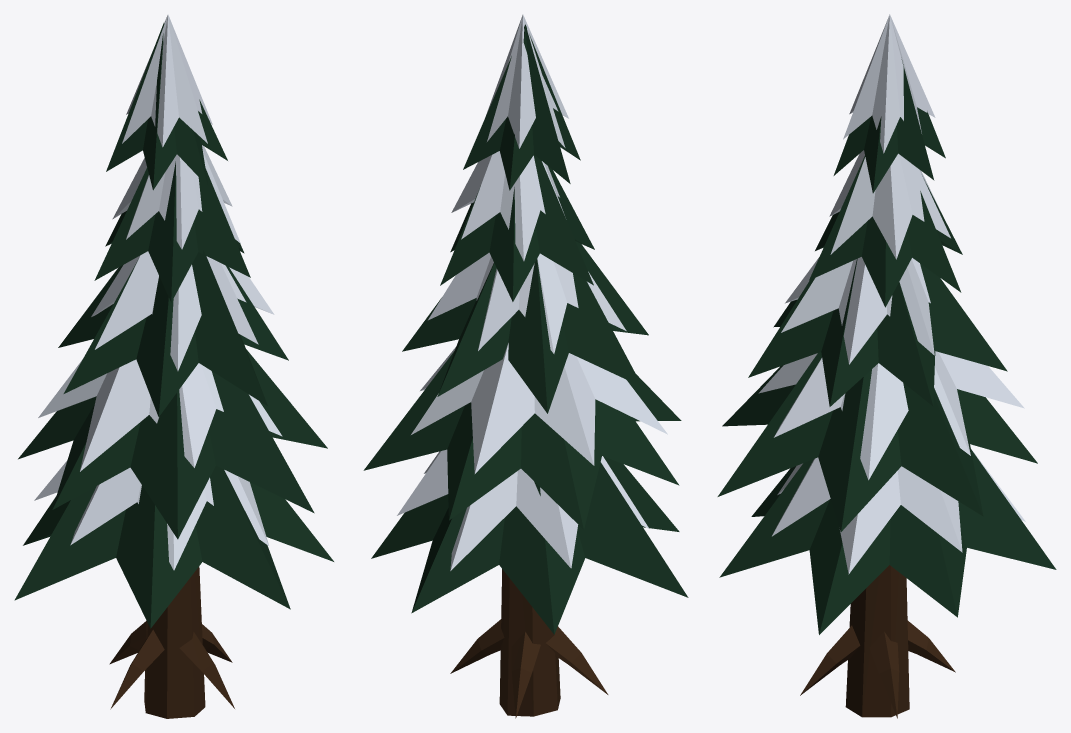
File: pino_nevado_b.fbx
The picture shows the model from 3 angles, left to right: view 1: azimuth 30°, elevation 25°; view 2: azimuth 150°, elevation 25°; view 3: azimuth 270°, elevation 25°; orthographic projection.
Parts seen in each view (by area): view 1: pino_nevado_b; view 2: pino_nevado_b; view 3: pino_nevado_b.
Boxes of the visible parts, left/top/right/bottom form: pino_nevado_b: left=14, top=14, right=333, bottom=718; pino_nevado_b: left=363, top=14, right=688, bottom=718; pino_nevado_b: left=717, top=14, right=1056, bottom=718.
Size of the model in its own units: 3.12 by 6.97 by 3.1.
